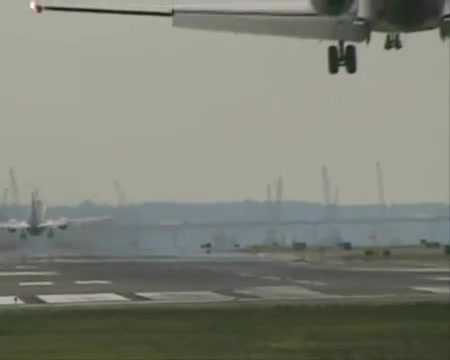aeroplane: (26, 2, 449, 75), (1, 187, 117, 243)
